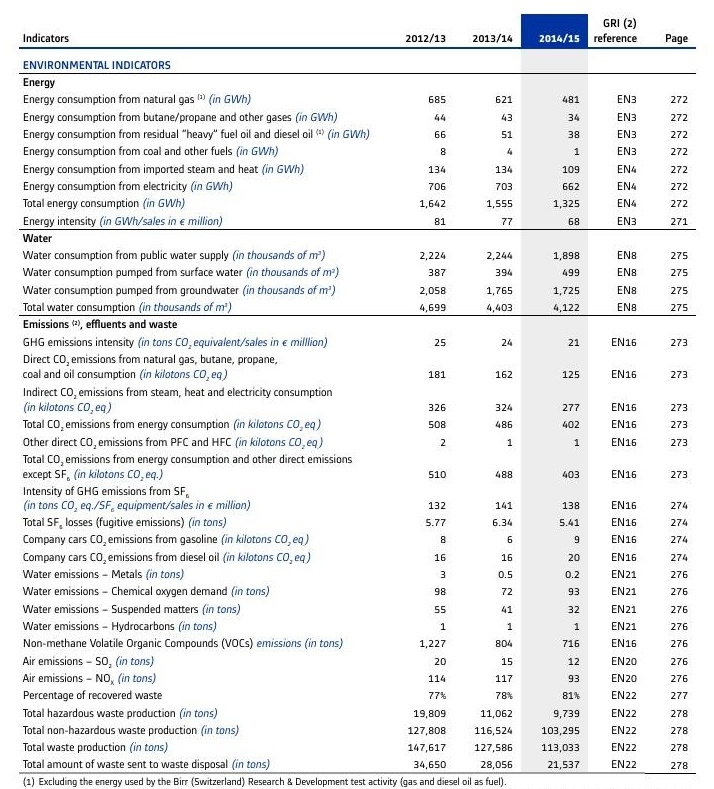table: (0, 0, 714, 789)
